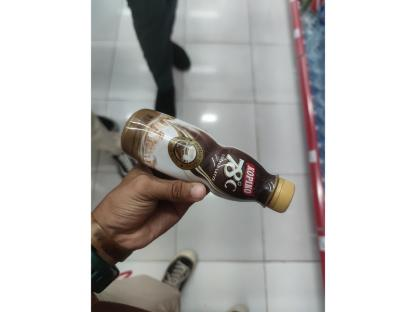Plastic Bottle: (115, 100, 301, 232)
